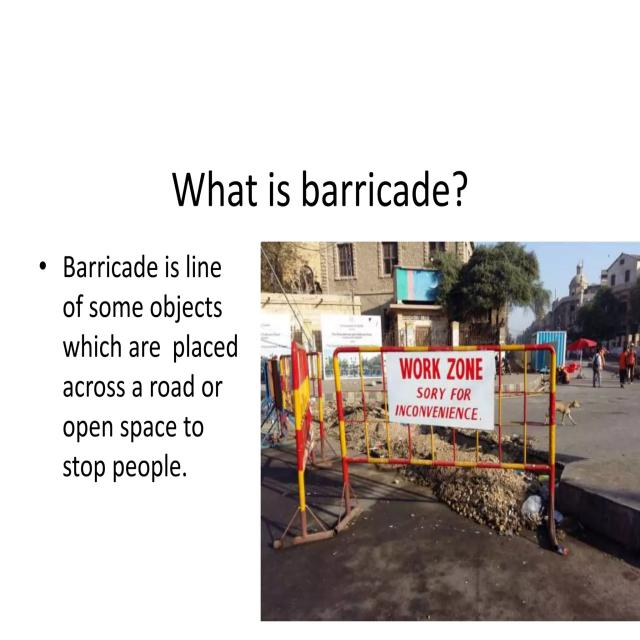cone: (262, 340, 563, 554)
